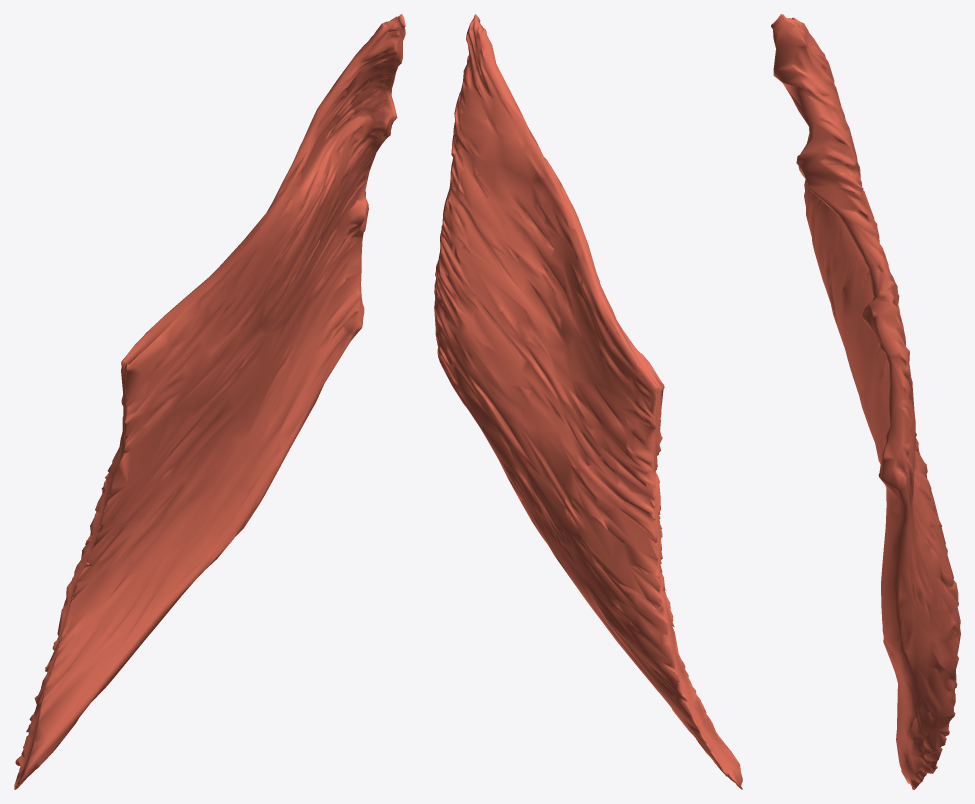
The model's file is rhomboid-major.glb.
3 views of the same model, side by side, from view 1: azimuth 30°, elevation 25°; view 2: azimuth 150°, elevation 25°; view 3: azimuth 270°, elevation 25° (orthographic). The views are drawn at different scales.
Visible parts, largest first — view 1: Rhomboid major muscle.r; view 2: Rhomboid major muscle.r; view 3: Rhomboid major muscle.r.
Part boxes in pixels (left/top/right/bottom): Rhomboid major muscle.r: left=14, top=14, right=405, bottom=789; Rhomboid major muscle.r: left=434, top=14, right=742, bottom=789; Rhomboid major muscle.r: left=771, top=14, right=960, bottom=789.
Bounding box in the file's own units: 0.0886 × 0.1801 × 0.0309.
